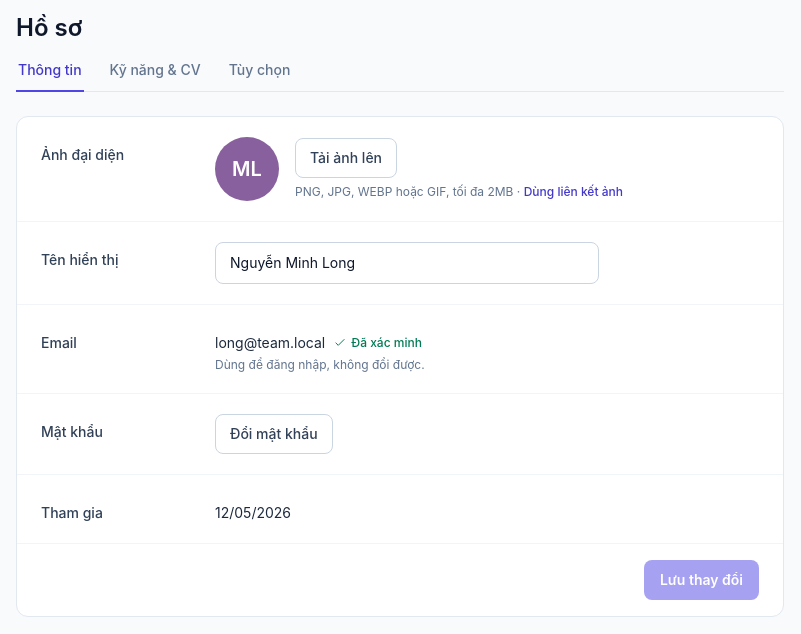
Test: ProfilePage › sửa tên: hiện Hoàn tác, Lưu gọi API với tên đã cắt khoảng trắng và cập nhật người dùng
This screenshot has width=801, height=634.
Replace the text in the field labelled "Tên hiển thị" with "  Long Nguyễn ": (407, 263) left=215, top=242, right=599, bottom=284
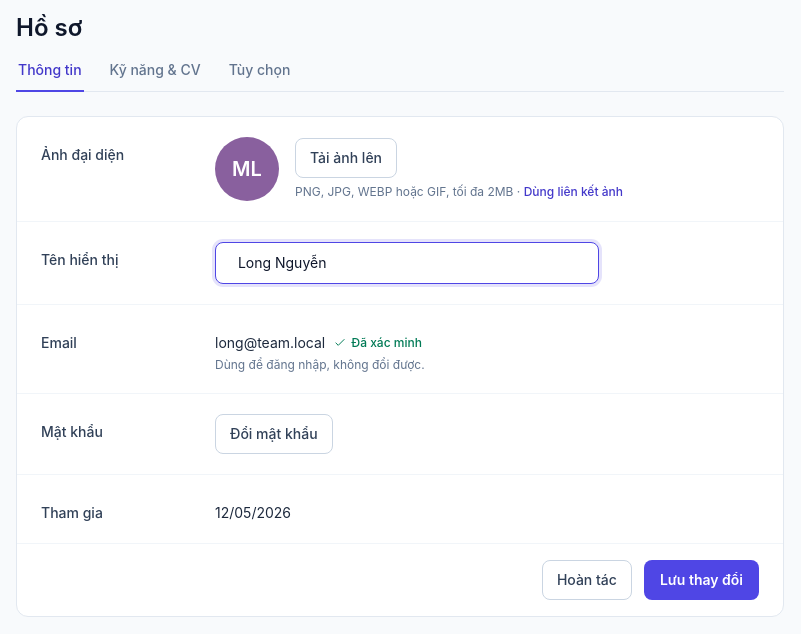
Expected: the button "Hoàn tác" is shown, left=542, top=560, right=632, bottom=600
Click the button "Lưu thay đổi": (701, 580) left=644, top=560, right=759, bottom=600
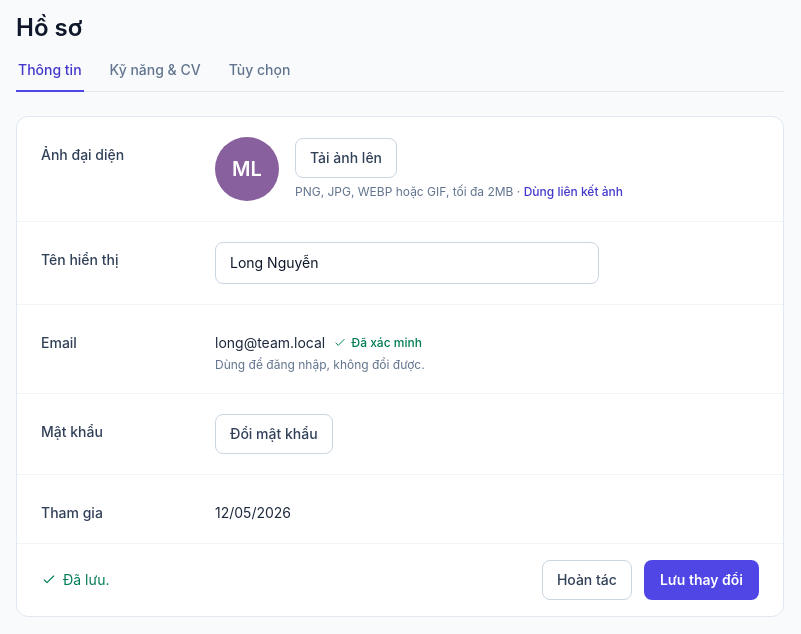
Expected: the message reads "Đã lưu.", left=63, top=571, right=110, bottom=588
